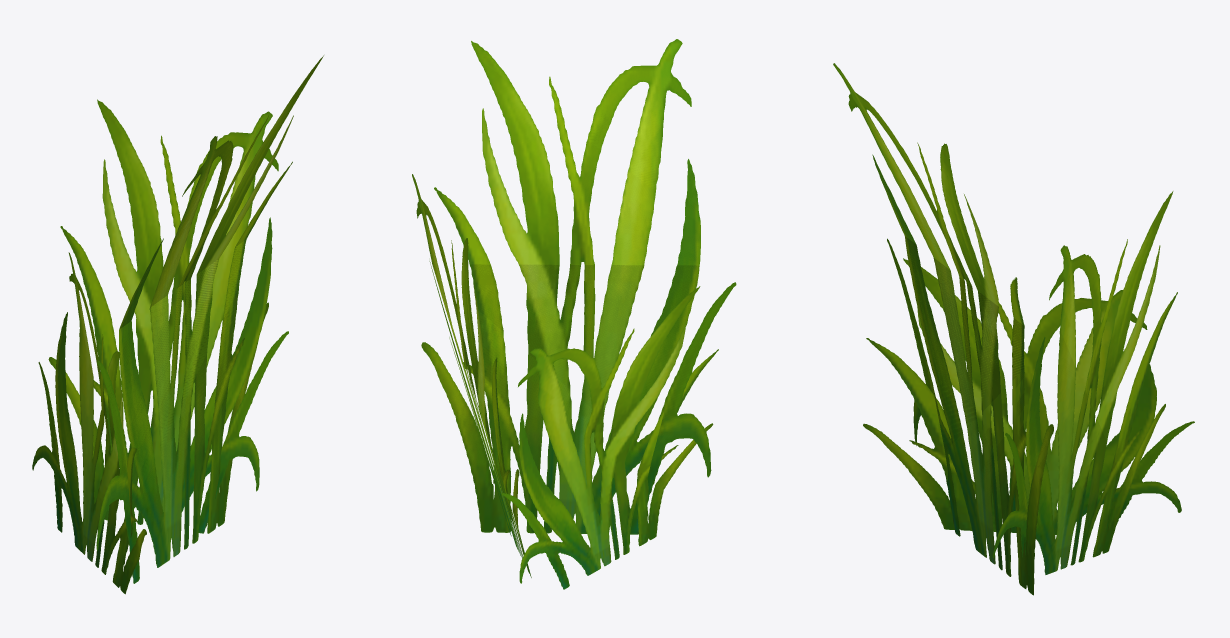
Rendered from guanmu_cao_01.FBX.
3 renders of one model, left to right at view 1: azimuth 30°, elevation 25°; view 2: azimuth 150°, elevation 25°; view 3: azimuth 270°, elevation 25°, orthographic. The views are drawn at different scales.
Visible parts, largest first — view 1: guanmu_cao_01; view 2: guanmu_cao_01; view 3: guanmu_cao_01.
Part boxes in pixels (left/top/right/bottom): guanmu_cao_01: left=32, top=55, right=323, bottom=594; guanmu_cao_01: left=412, top=39, right=736, bottom=589; guanmu_cao_01: left=833, top=63, right=1194, bottom=595.
Size of the model in its own units: 254 by 389 by 302.
